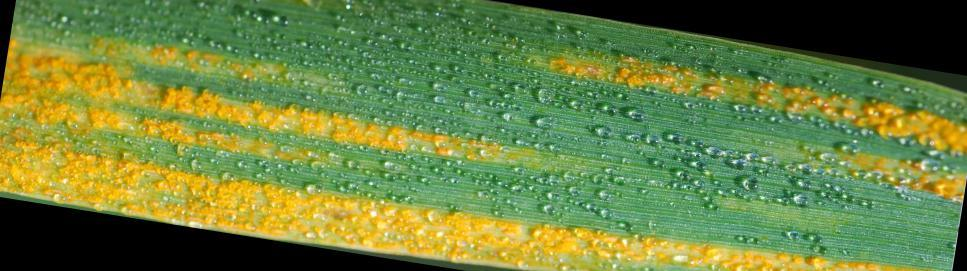Wheat: (311, 99, 826, 267), (5, 29, 321, 243), (572, 41, 954, 205)
